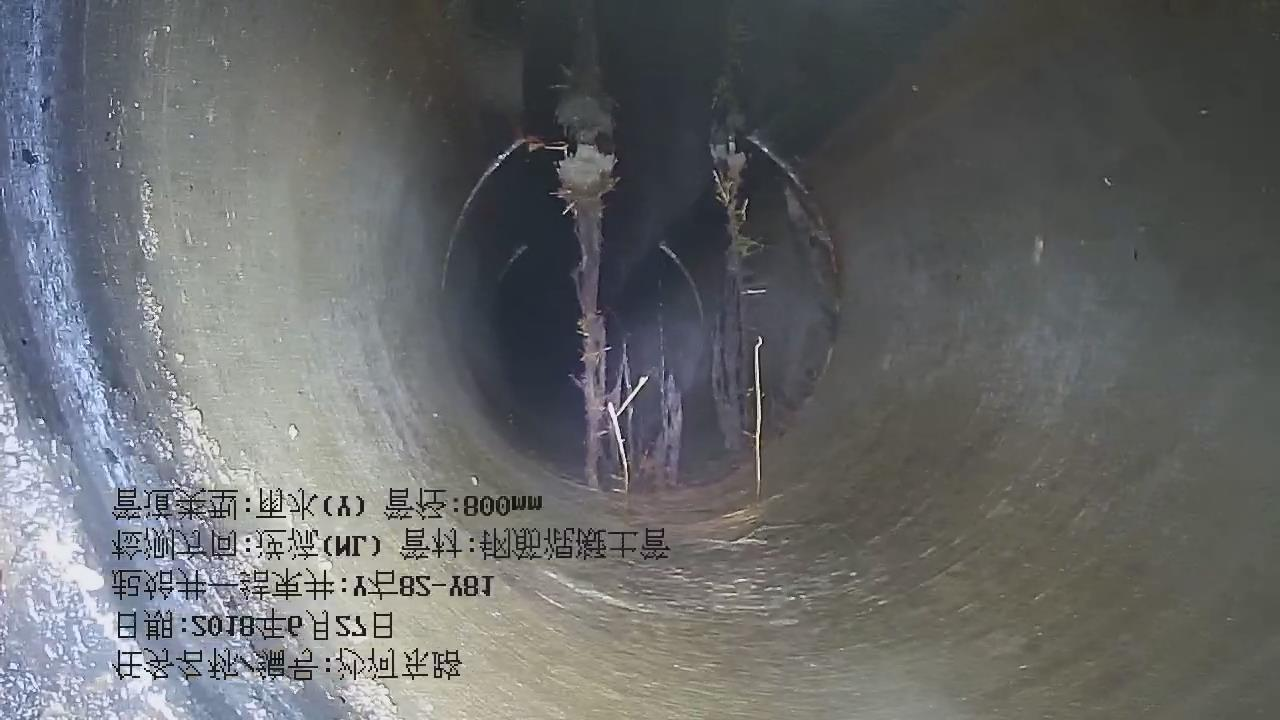SG: (559, 142, 765, 497)
